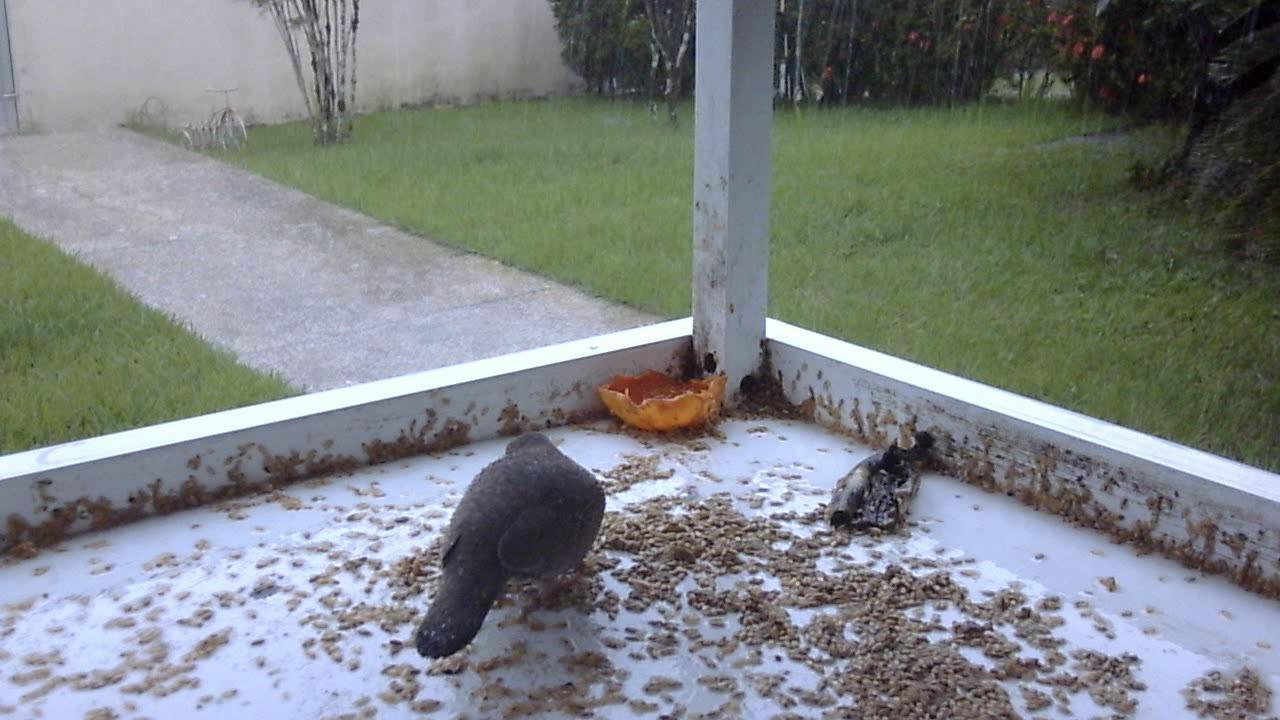rolinha: (408, 423, 614, 663)
